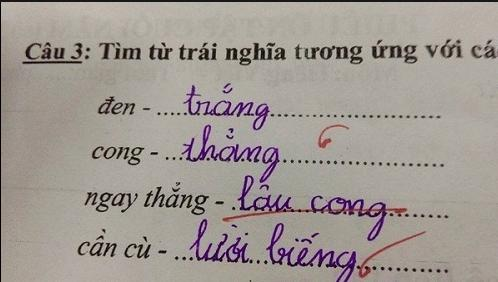text: (76, 217, 431, 282), (82, 173, 409, 243), (23, 37, 498, 68), (89, 123, 281, 183), (96, 81, 272, 132), (316, 122, 352, 149)
